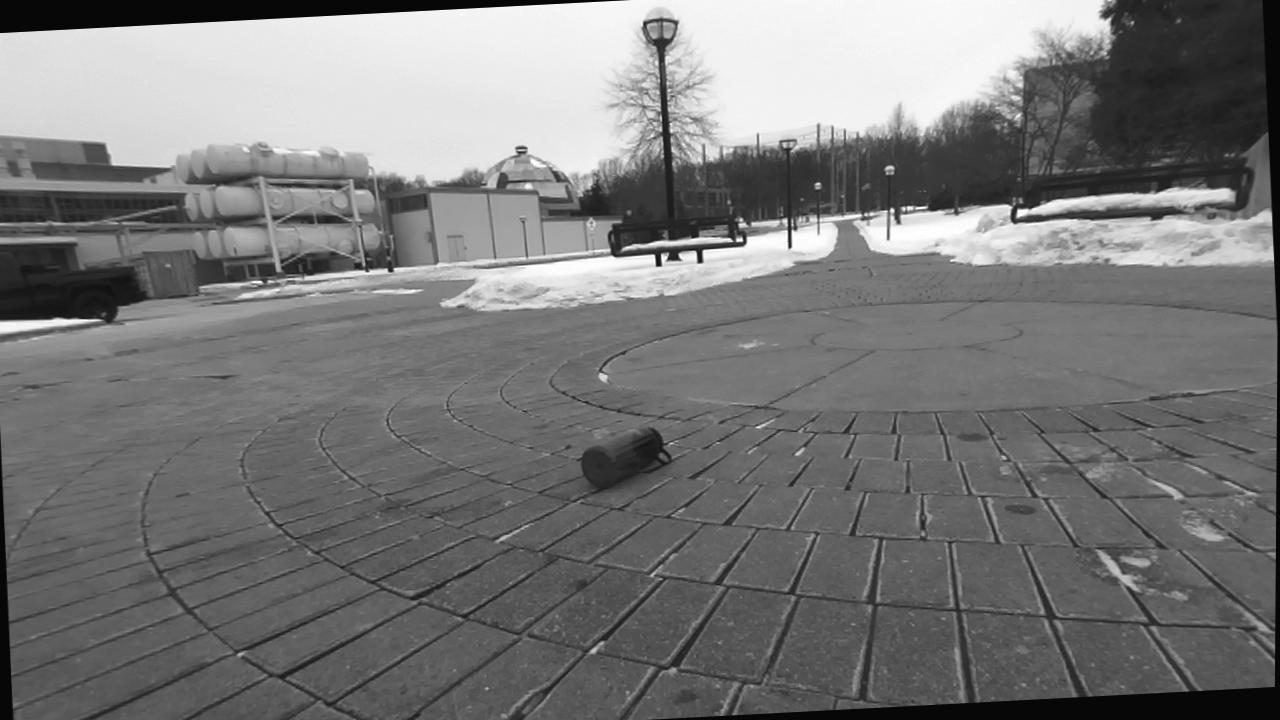bottle: (581, 427, 670, 488)
